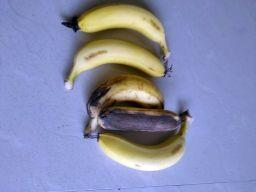banana: (59, 0, 174, 62), (83, 109, 194, 172), (63, 35, 175, 91), (83, 72, 166, 140), (96, 106, 193, 134)
